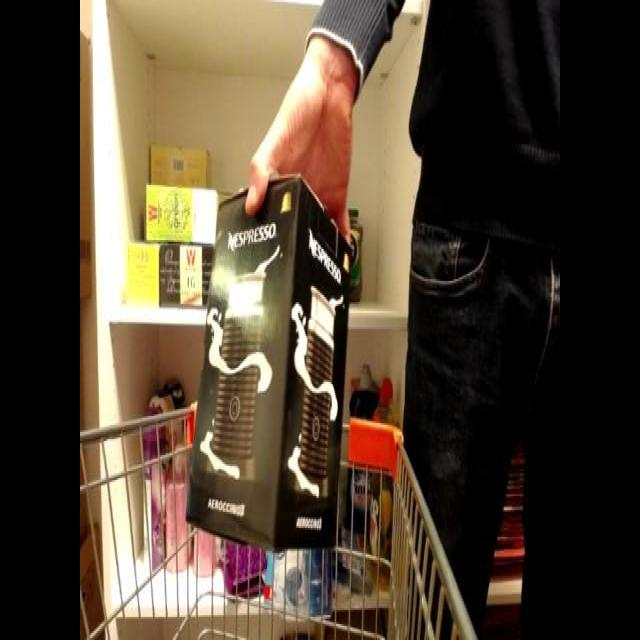Nespresso: (175, 171, 365, 561)
